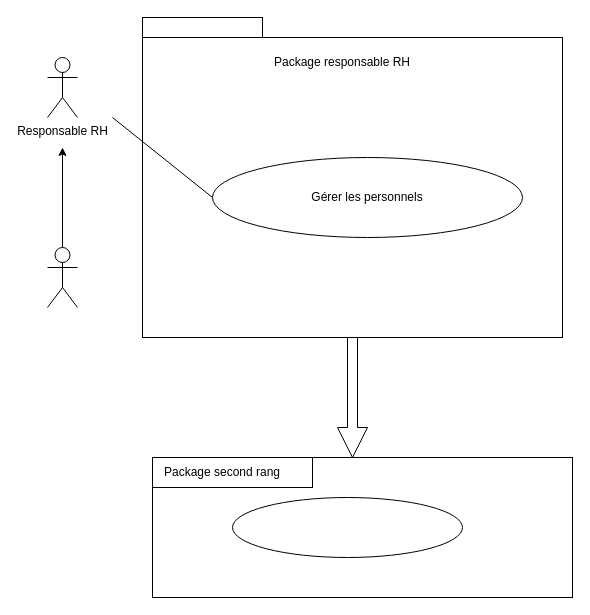
Some shapes in this 590 by 615 pixel diagram are drawn without their labels. Here are the shapes that lost their labels. From the top down, the centre of each, then its label:
the point at 62,277: administrateur
the point at 347,527: S'authentifier
